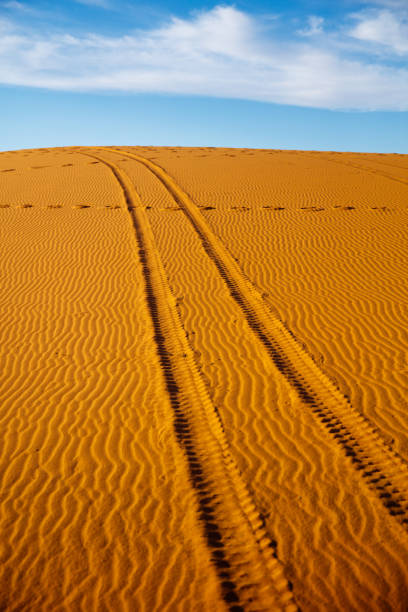vehicle_track: (103, 147, 407, 527), (76, 149, 297, 611), (323, 156, 407, 185)
